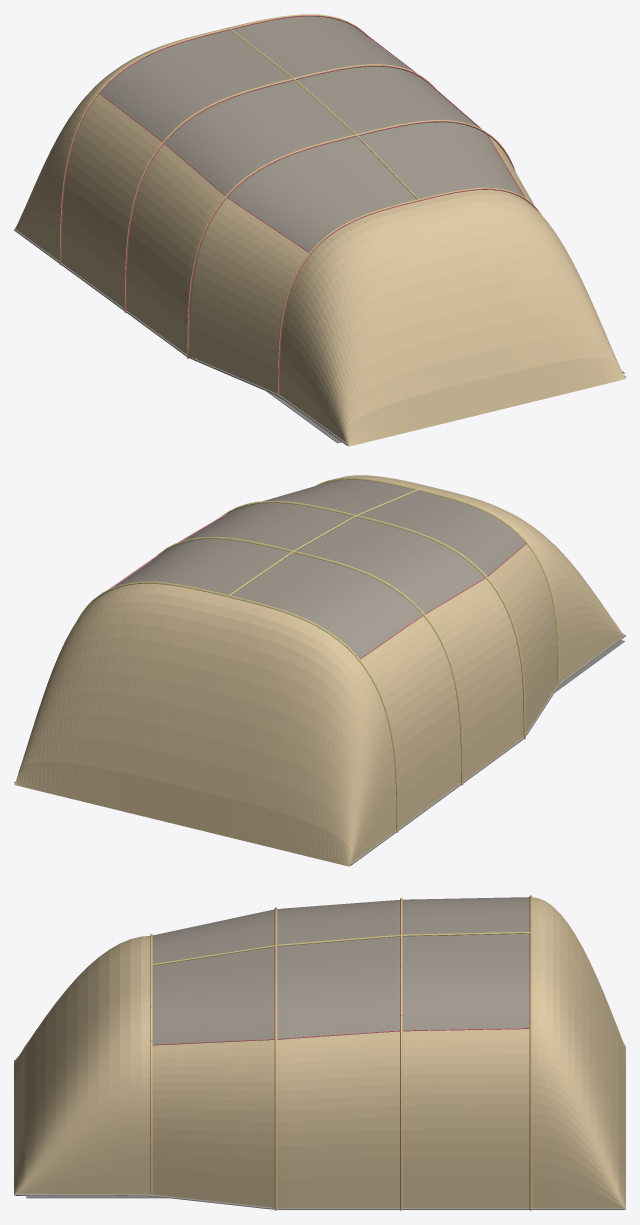
File: g_elfield.glb
3 renders of one model, top to bottom at view 1: azimuth 30°, elevation 25°; view 2: azimuth 150°, elevation 25°; view 3: azimuth 270°, elevation 25°, orthographic.
Parts seen in each view (by area): view 1: door_back, roof, wall_3, door_L, door_front, wall_1; view 2: door_front, roof, wall_3, door_L, door_back; view 3: roof, wall_2, door_back, door_front, door_R, wall, inner_2.
Part boxes in pixels (x1=…): door_back: x1=279, y1=190, x2=625, y2=446; roof: x1=100, y1=16, x2=523, y2=251; wall_3: x1=122, y1=140, x2=308, y2=393; door_L: x1=65, y1=96, x2=159, y2=307; door_front: x1=15, y1=15, x2=287, y2=260; wall_1: x1=61, y1=94, x2=102, y2=264; door_front: x1=14, y1=583, x2=396, y2=866; roof: x1=114, y1=479, x2=525, y2=658; wall_3: x1=420, y1=544, x2=557, y2=784; door_L: x1=362, y1=618, x2=457, y2=826; door_back: x1=337, y1=475, x2=623, y2=682; roof: x1=152, y1=897, x2=529, y2=1044; wall_2: x1=152, y1=1031, x2=408, y2=1209; door_back: x1=14, y1=936, x2=150, y2=1195; door_front: x1=532, y1=897, x2=625, y2=1209; door_R: x1=408, y1=1029, x2=523, y2=1207; wall: x1=524, y1=1029, x2=529, y2=1207; inner_2: x1=26, y1=1195, x2=168, y2=1198.
Size of the model in its own units: 3.83 by 2.12 by 6.
